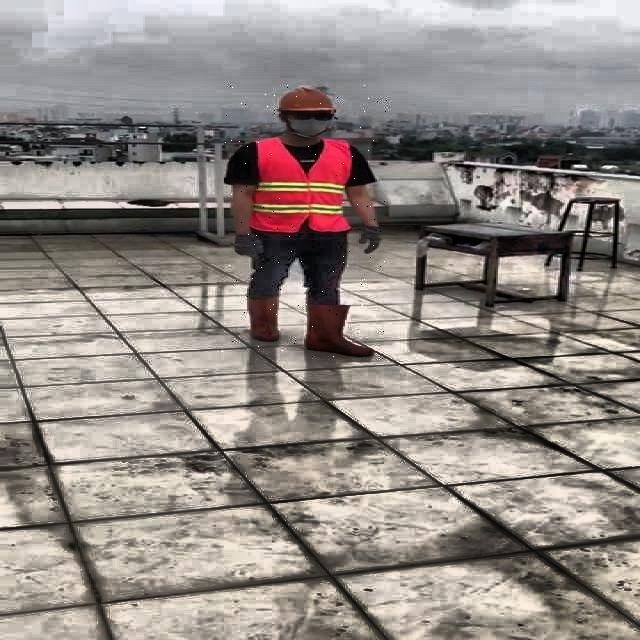safety_helmet: (271, 83, 340, 112)
safety_jacket: (254, 138, 356, 232)
